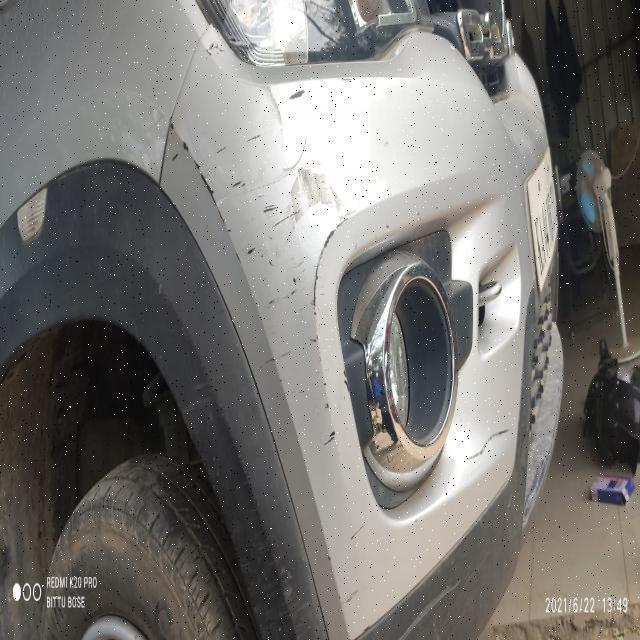hood: (170, 42, 510, 639)
